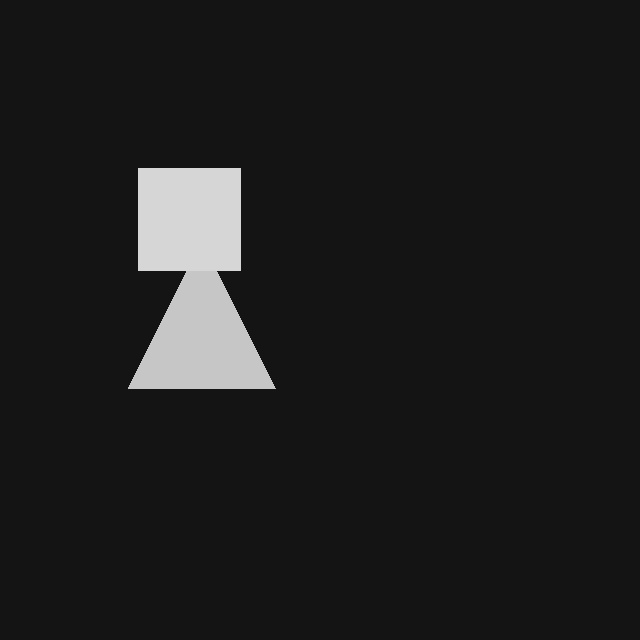square: (138, 168, 240, 270)
triangle: (128, 241, 275, 388)
